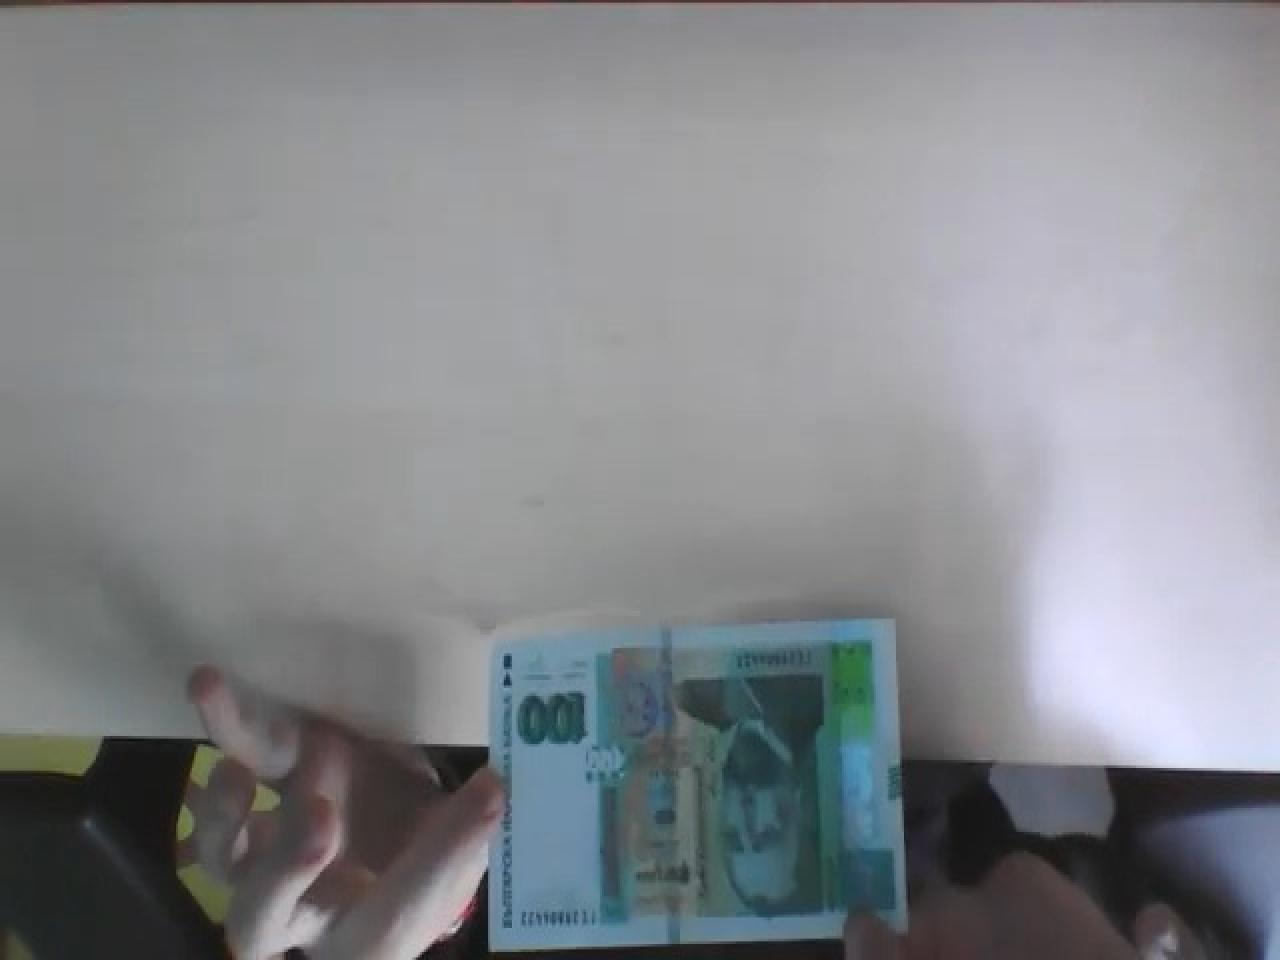100leva: (486, 616, 908, 952), (672, 672, 830, 920), (516, 691, 590, 749)
